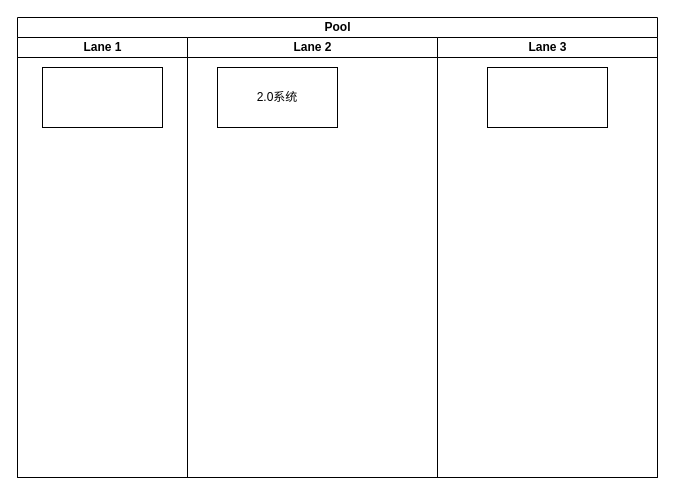
This 675x495 diagram has some shape labels left out. The shapes that lost their labels are listed below. From the top down, each one's centre as x and y in pixels, then its label:
point (102, 97): 1.0系统
point (547, 97): 交易所系统
